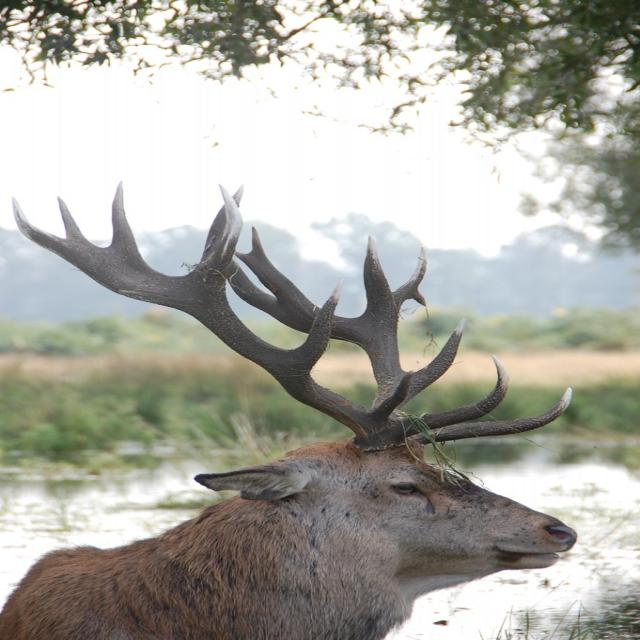Deer: (1, 180, 578, 640)
